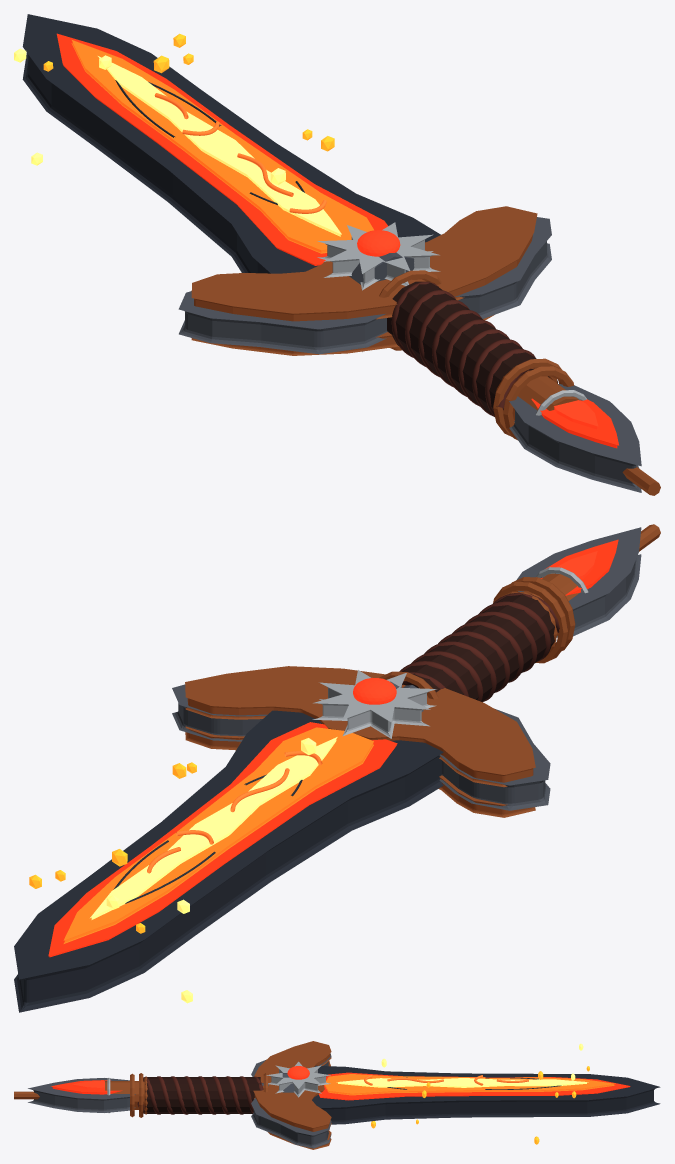
Rendered from enchanted-fire-sword.glb.
3 views of the same model, one above another, from view 1: azimuth 30°, elevation 25°; view 2: azimuth 150°, elevation 25°; view 3: azimuth 270°, elevation 25° (orthographic). The views are drawn at different scales.
Parts seen in each view (by area): view 1: BladeShell, GuardRidge, Crossguard, Ember_Core_Front, HiltWrap, PommelSpine, Ember_Fire_Front, WhiteHot_Core_Front, GuardStar, LeatherCord_0.0, LeatherCord_3.1, PommelEmberOuter (+6 smaller); view 2: BladeShell, GuardRidge, Ember_Core_Front, Ember_Fire_Front, HiltWrap, Crossguard, WhiteHot_Core_Front, PommelSpine, GuardStar, LeatherCord_3.1, LeatherCord_0.0, GuardRidge_Back (+4 smaller); view 3: BladeShell, GuardRidge, HiltWrap, Ember_Core_Front, PommelSpine, Ember_Fire_Front, WhiteHot_Core_Front, Crossguard, GuardStar, LeatherCord_0.0, LeatherCord_3.1, PommelNeck (+6 smaller).
Boxes of the visible parts, x1,y1,x2,y2 form: BladeShell: (22, 14, 440, 273); GuardRidge: (191, 206, 537, 321); Crossguard: (178, 217, 551, 354); Ember_Core_Front: (71, 40, 373, 253); HiltWrap: (387, 281, 557, 414); PommelSpine: (509, 384, 641, 492); Ember_Fire_Front: (56, 33, 387, 265); WhiteHot_Core_Front: (98, 56, 341, 236); GuardStar: (317, 222, 440, 290); LeatherCord_0.0: (391, 281, 531, 416); LeatherCord_3.1: (405, 290, 535, 416); PommelEmberOuter: (531, 398, 618, 448); BladeShell: (14, 710, 443, 1012); GuardRidge: (185, 666, 535, 787); Ember_Core_Front: (63, 727, 373, 943); Ember_Fire_Front: (48, 722, 397, 957); HiltWrap: (402, 594, 556, 701); Crossguard: (172, 684, 550, 810); WhiteHot_Core_Front: (90, 737, 337, 919); PommelSpine: (516, 527, 641, 637); GuardStar: (312, 670, 436, 738); LeatherCord_3.1: (399, 601, 550, 702); LeatherCord_0.0: (402, 592, 567, 701); GuardRidge_Back: (185, 726, 535, 817); BladeShell: (312, 1065, 660, 1124); GuardRidge: (253, 1041, 331, 1131); HiltWrap: (145, 1077, 260, 1113); Ember_Core_Front: (324, 1074, 615, 1095); PommelSpine: (28, 1078, 135, 1112); Ember_Fire_Front: (319, 1072, 630, 1100); WhiteHot_Core_Front: (336, 1078, 588, 1087); Crossguard: (251, 1053, 331, 1148); GuardStar: (266, 1061, 330, 1097); LeatherCord_0.0: (143, 1076, 263, 1114); LeatherCord_3.1: (137, 1076, 253, 1114); PommelNeck: (105, 1081, 144, 1109).
Bounding box in the file's own units: 2.26 × 0.6948 × 6.61.
